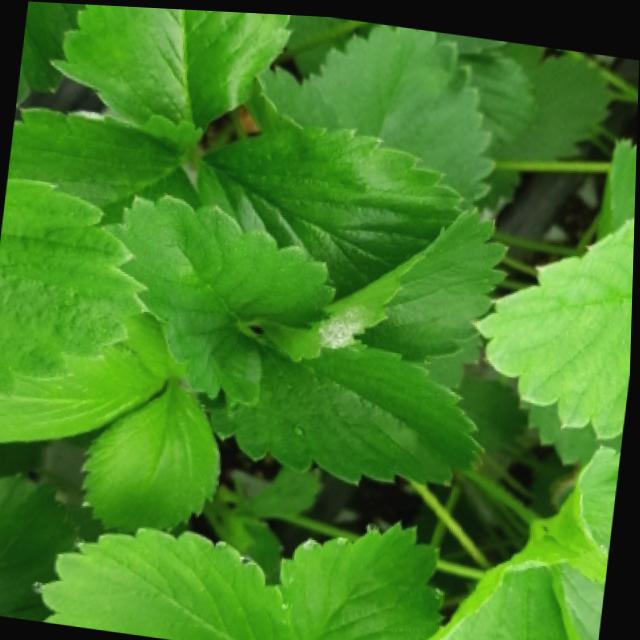Powdery Mildew Leaf: (252, 199, 510, 362)
